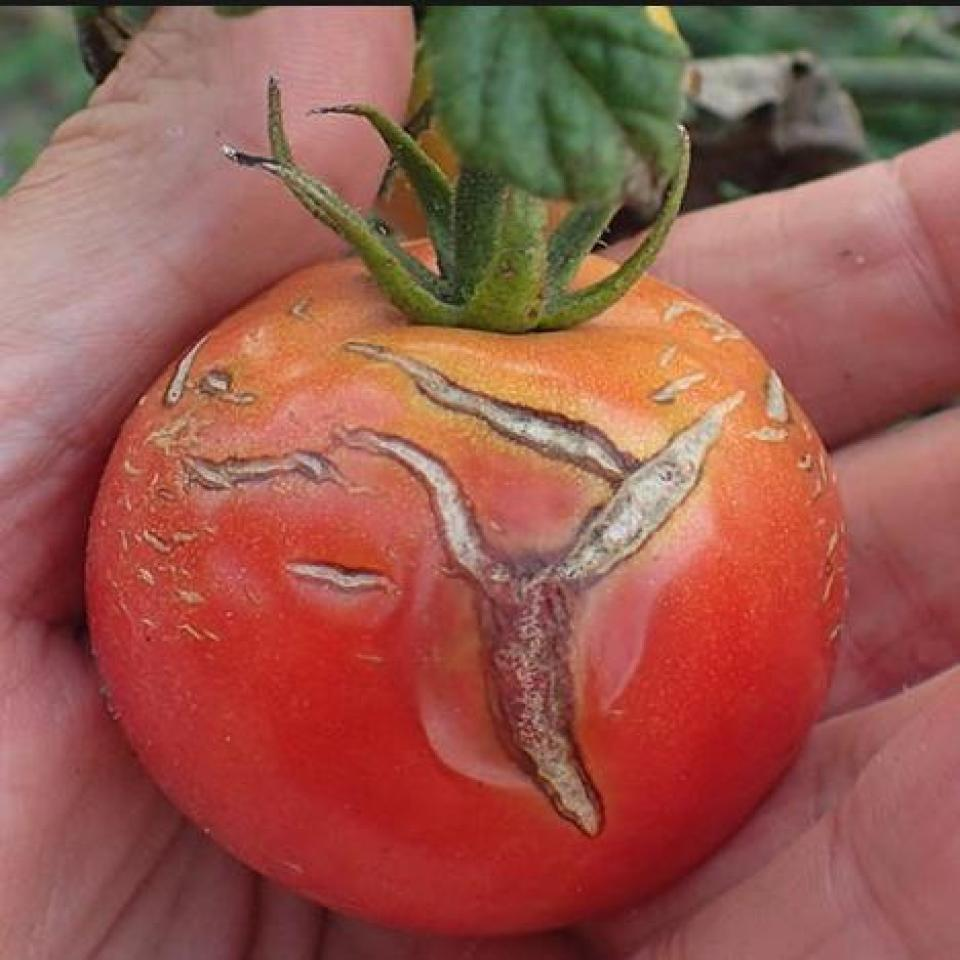Cracking: (270, 335, 761, 882)
